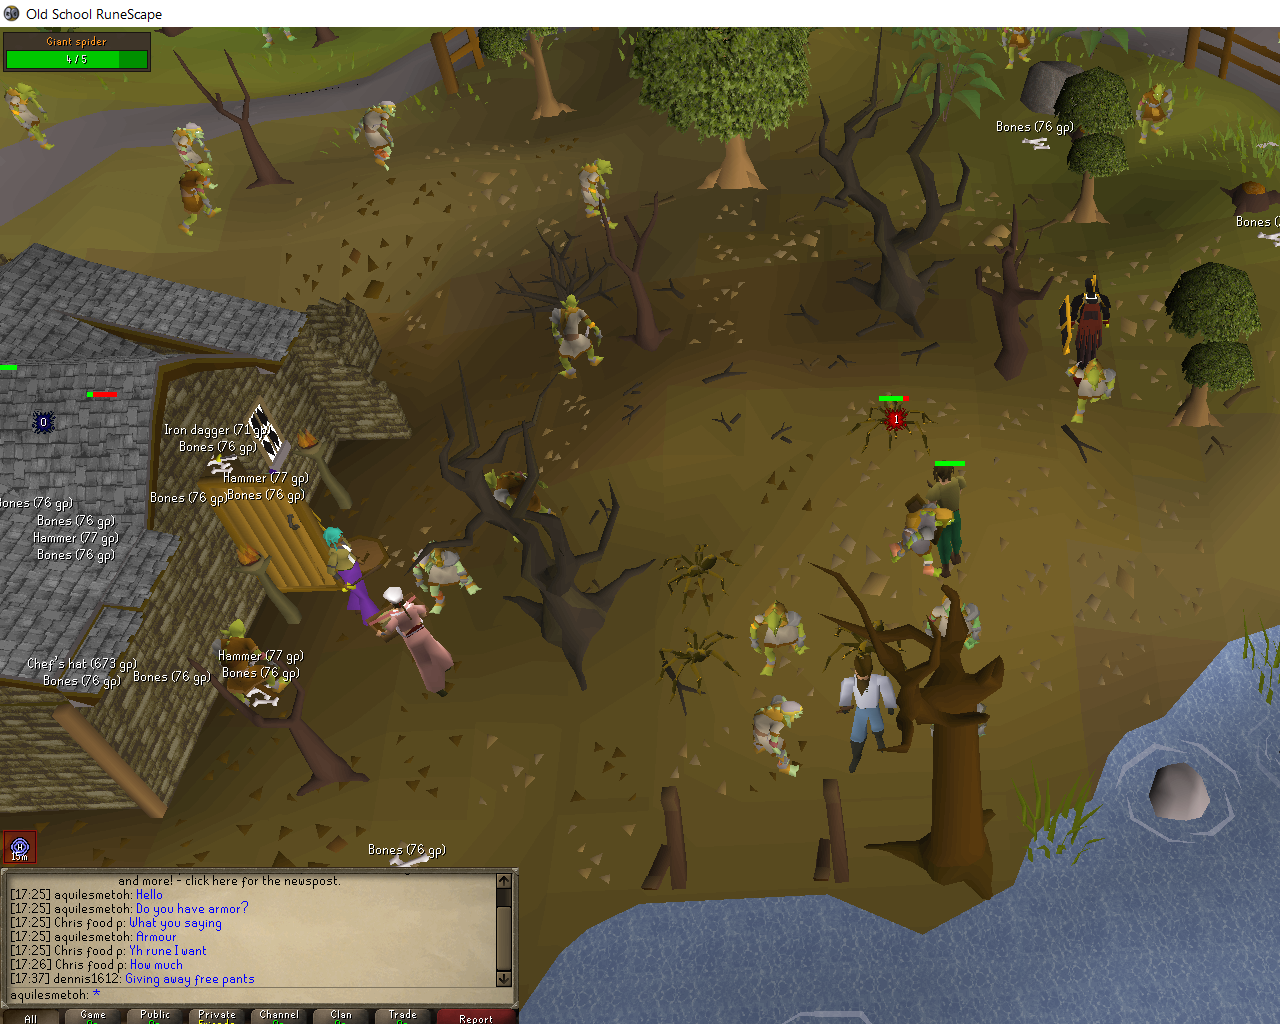Goblin: (206, 619, 299, 704), (481, 469, 567, 546), (540, 287, 607, 385), (402, 545, 491, 618), (886, 504, 965, 581), (747, 694, 816, 782), (744, 599, 819, 677), (163, 119, 228, 195), (911, 595, 997, 651), (1061, 358, 1130, 424), (1, 83, 63, 153), (350, 98, 406, 173), (173, 160, 226, 236), (576, 154, 623, 230), (1130, 82, 1181, 145), (999, 27, 1039, 70)
